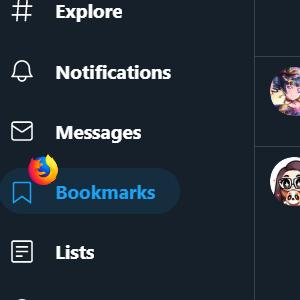firefox: (27, 153, 59, 187)
